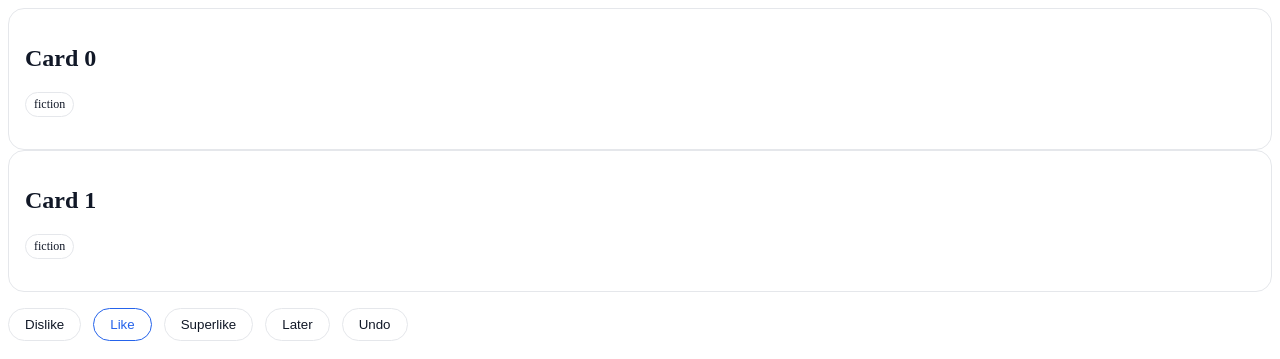
it: SwipeDeck › advances on the Like button and moves focus to the deck
Click the button "Like". click: (123, 324)
box: top-left (93, 308), bottom-right (152, 341)
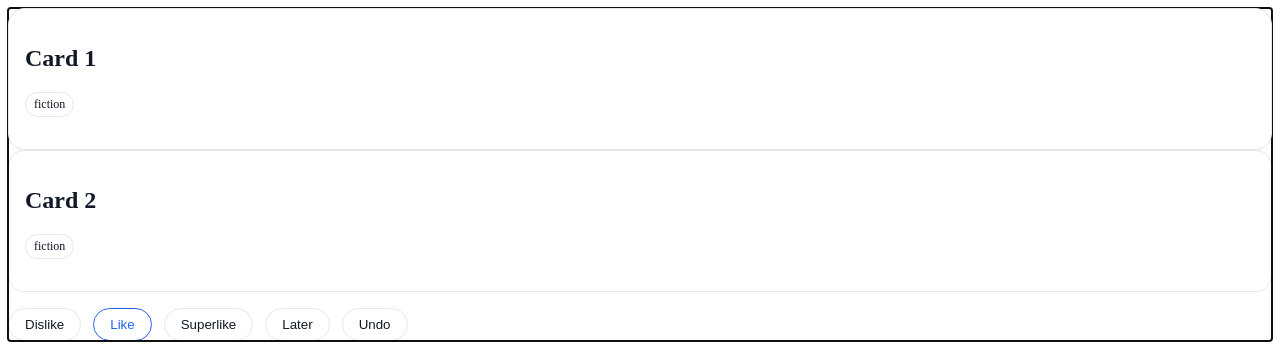
Expected: the heading "Card 1" is shown, top-left (25, 45), bottom-right (96, 71)
